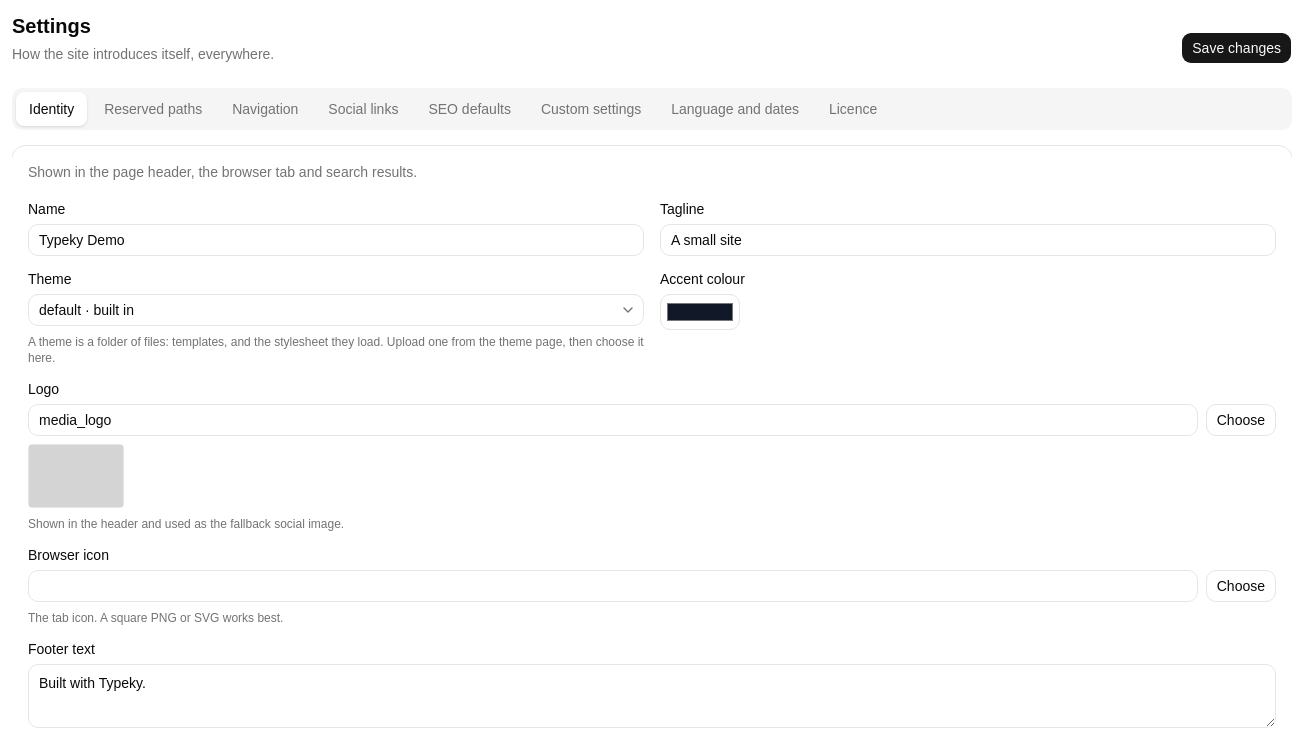
Test: navigation › reorders and renumbers
Click the tab "Navigation".
click(265, 109)  # box 219,92 -> 311,126
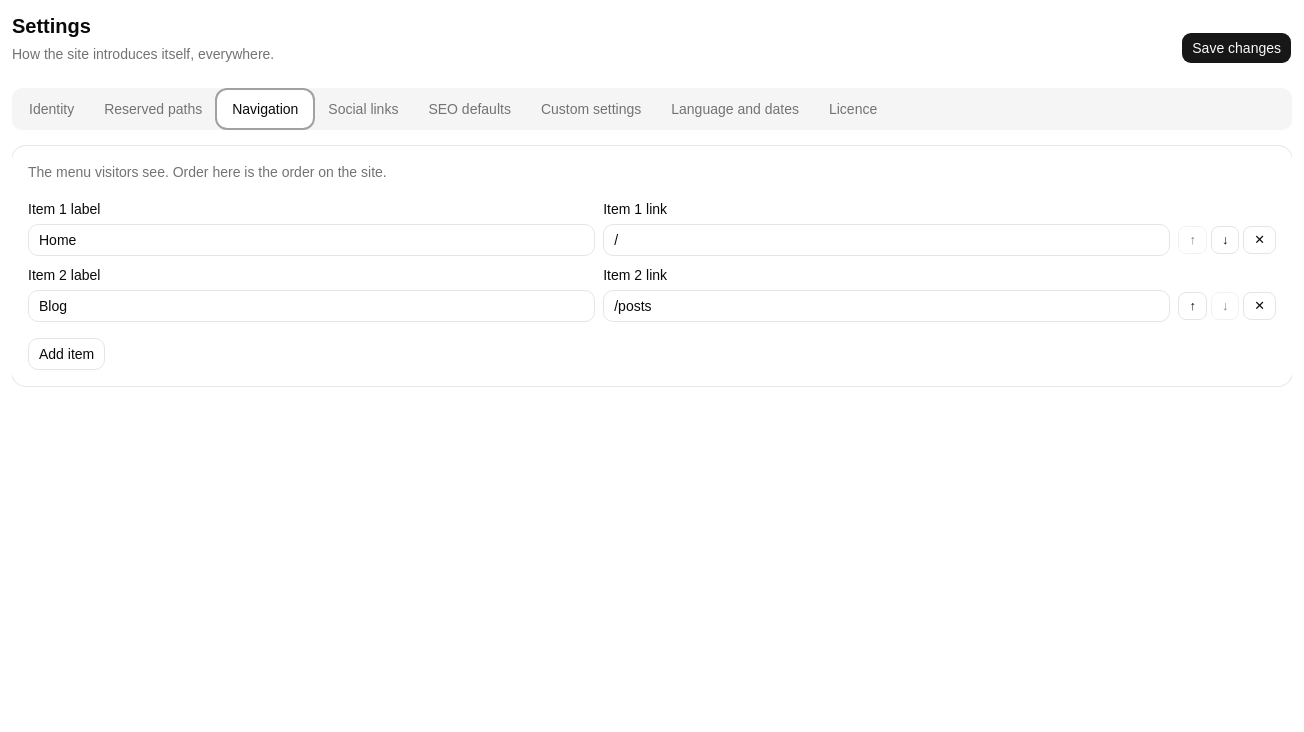
Click the button named "Move Blog up".
click(1193, 306)  # box 1178,292 -> 1207,320
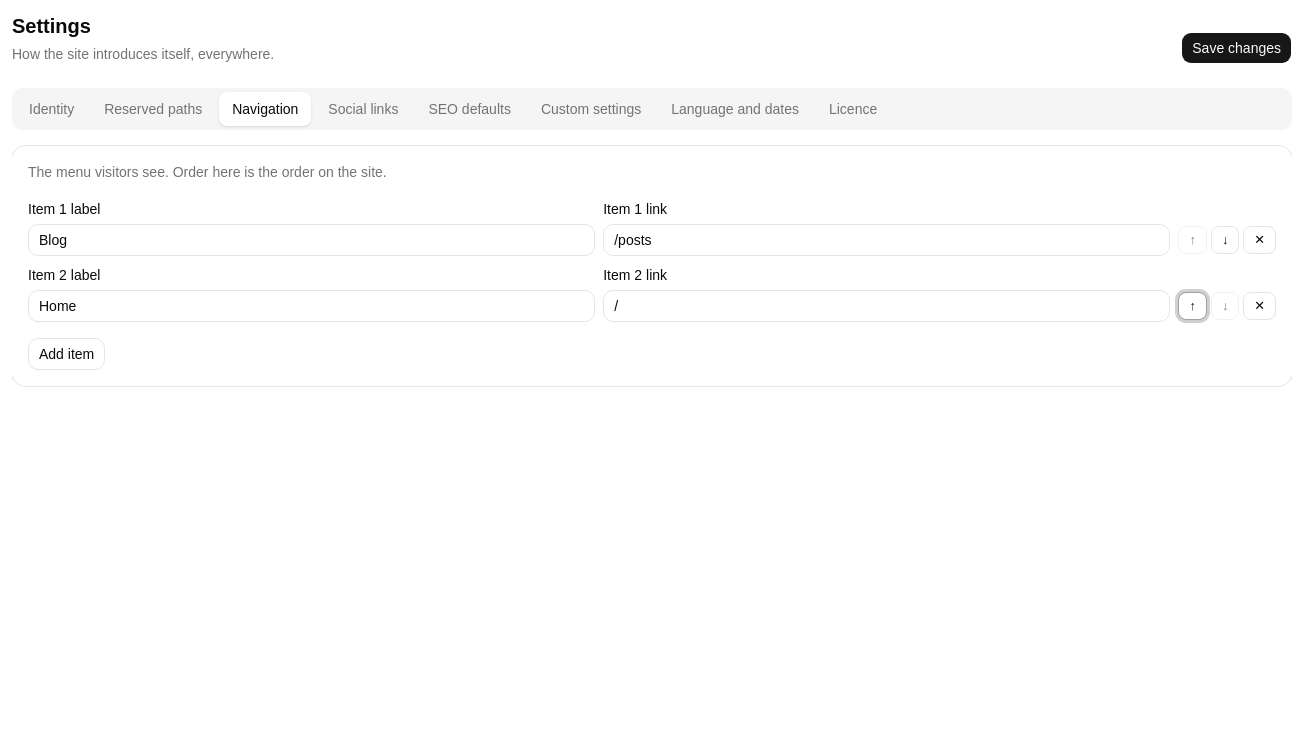
Now the field labelled "Item 1 label" holds "Blog", box 28,224 -> 595,256
Now the field labelled "Item 2 label" holds "Home", box 28,290 -> 595,322
